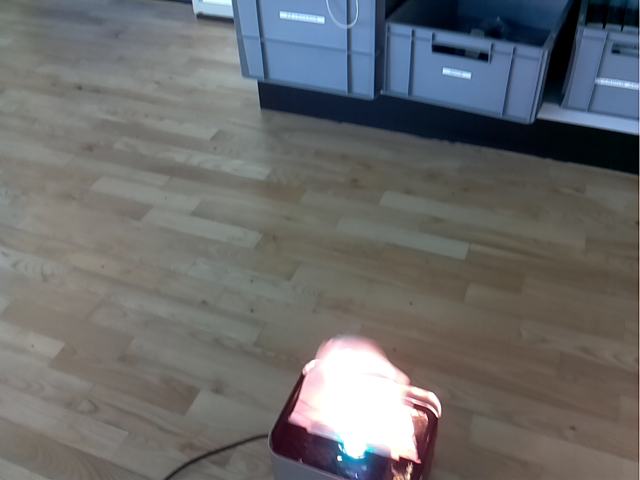fire: (287, 334, 421, 463)
